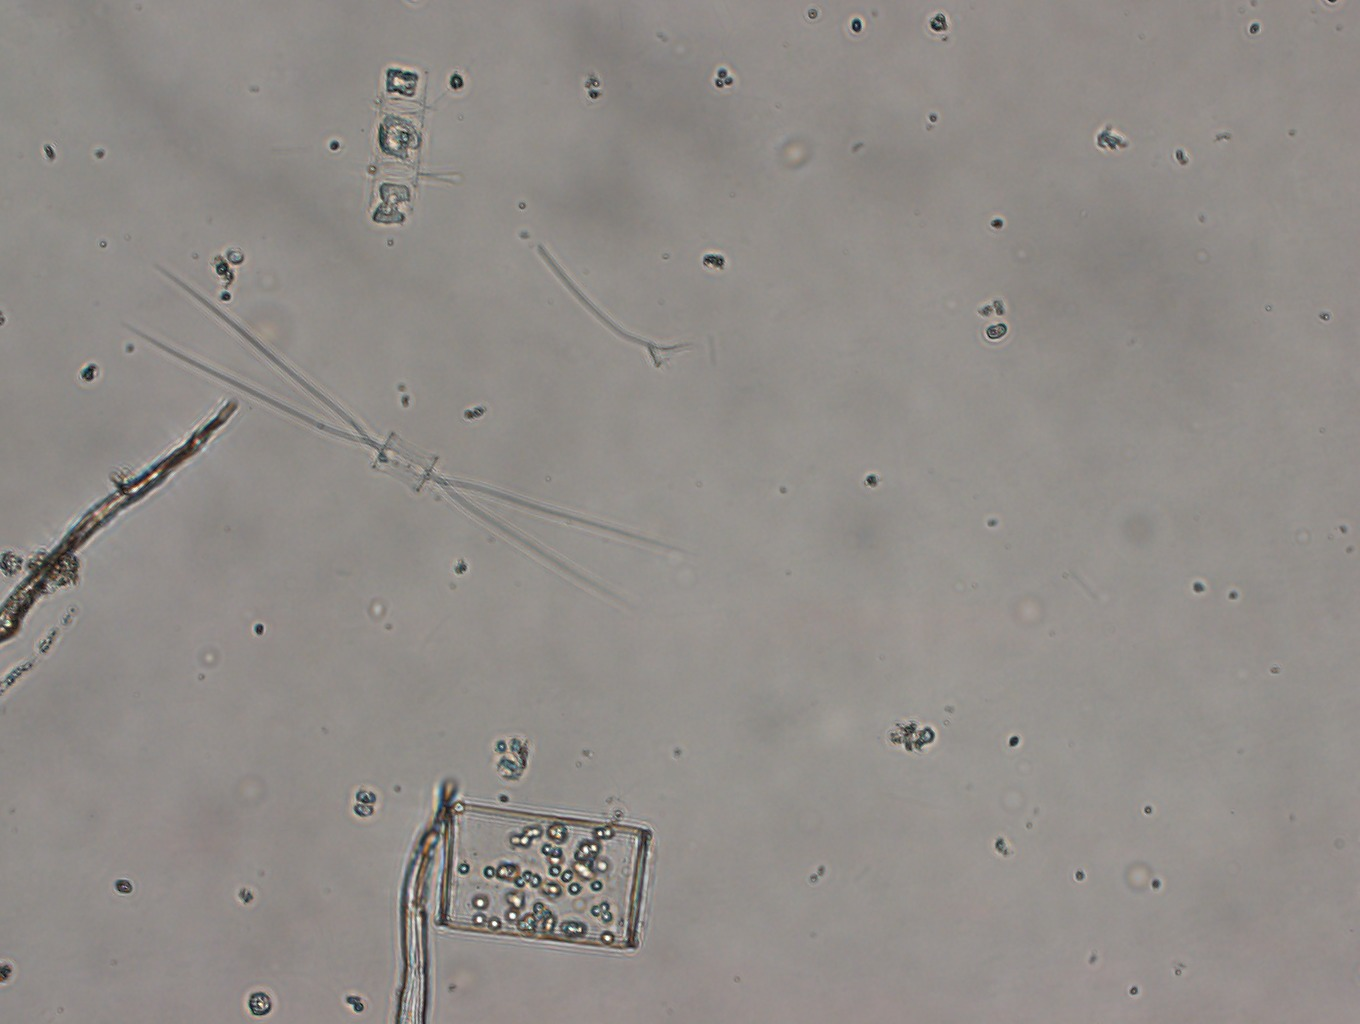chaetoceros: (124, 264, 699, 614), (362, 65, 468, 230)
guinardia flaccida: (434, 801, 652, 951)
